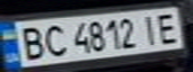1: (103, 16, 124, 51)
2: (118, 15, 142, 49)
4: (69, 19, 90, 54)
8: (87, 18, 106, 53)
B: (12, 24, 48, 62)
C: (39, 22, 69, 58)
E: (151, 9, 184, 45)
I: (136, 11, 163, 46)
